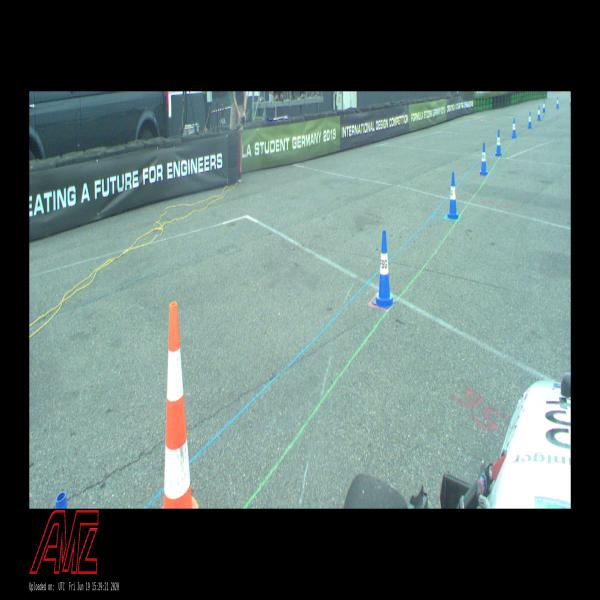blue_cone: (373, 231, 396, 308), (448, 172, 458, 219), (480, 143, 488, 175), (495, 130, 502, 156), (512, 118, 516, 138), (528, 112, 532, 128), (537, 105, 541, 121), (556, 96, 559, 109), (543, 100, 545, 113)
large_orange_cone: (162, 302, 199, 509)
